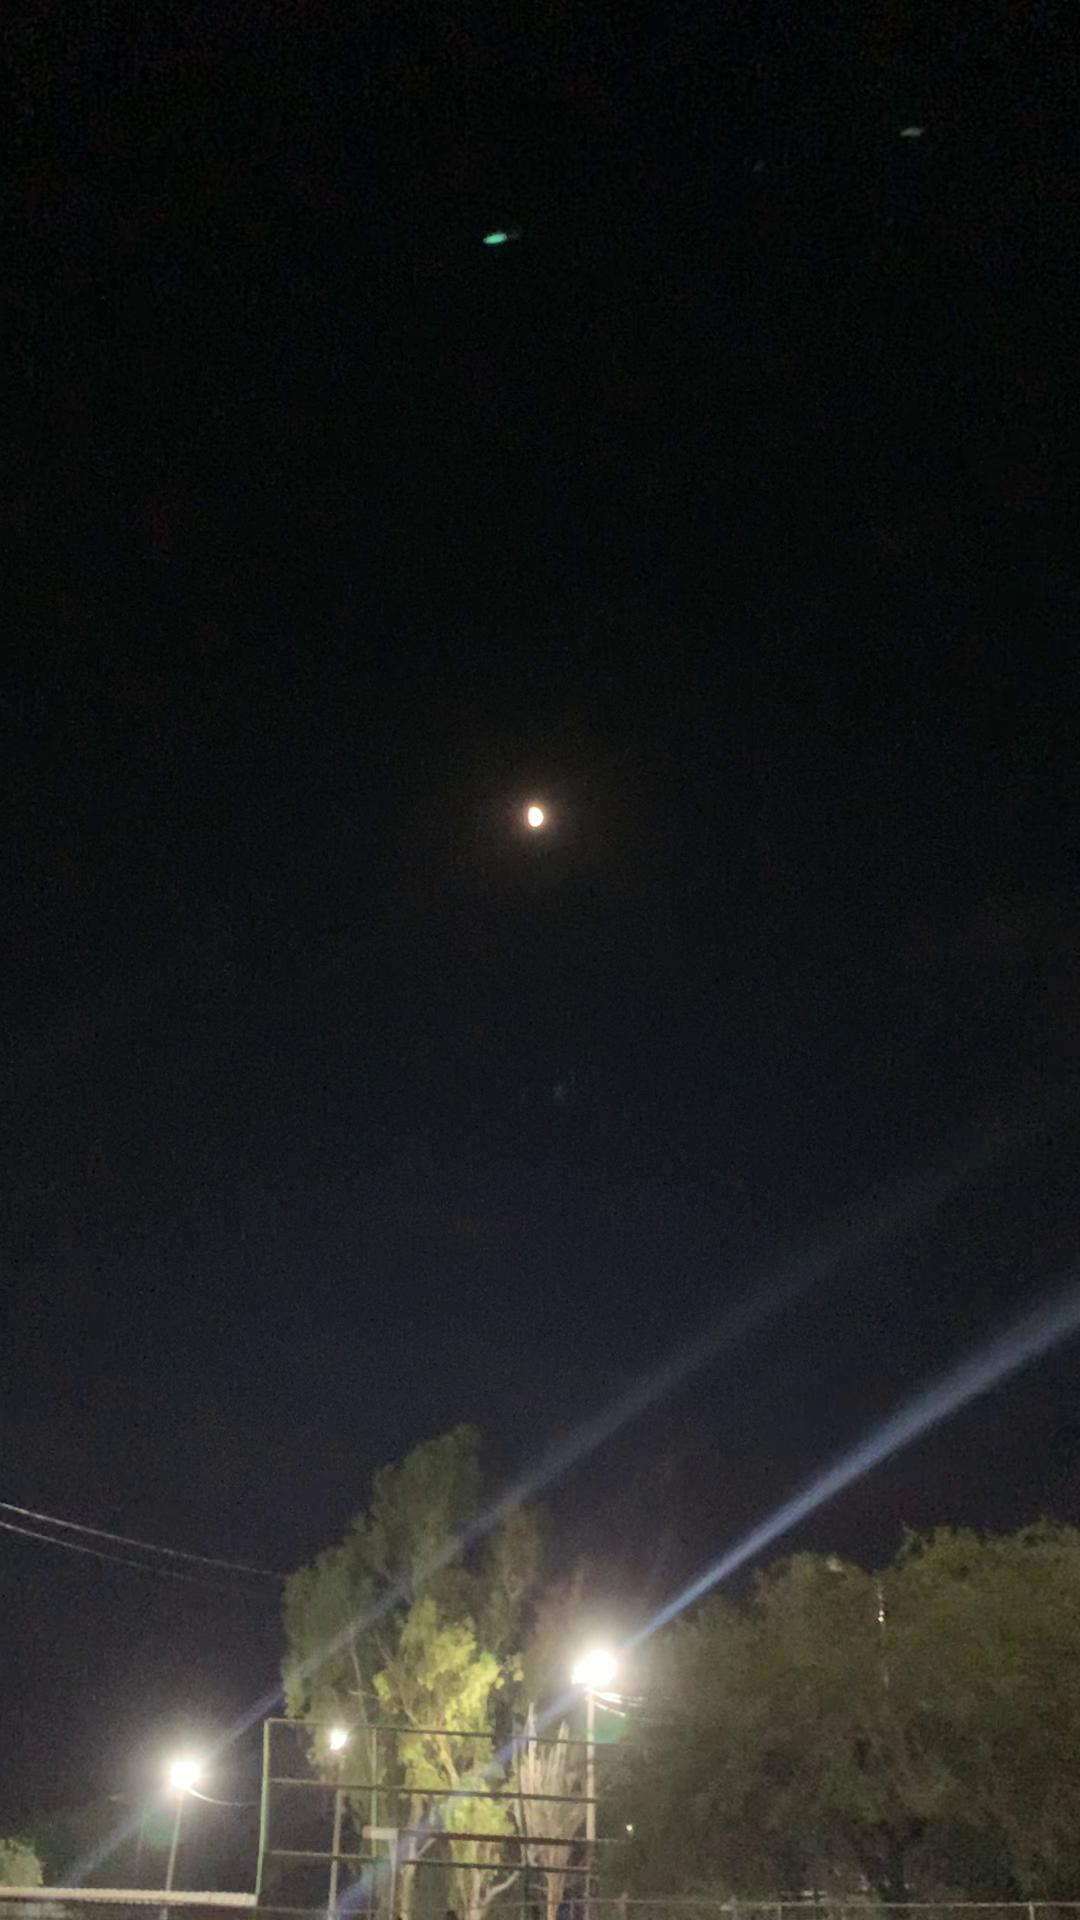moon: (497, 769, 576, 857)
